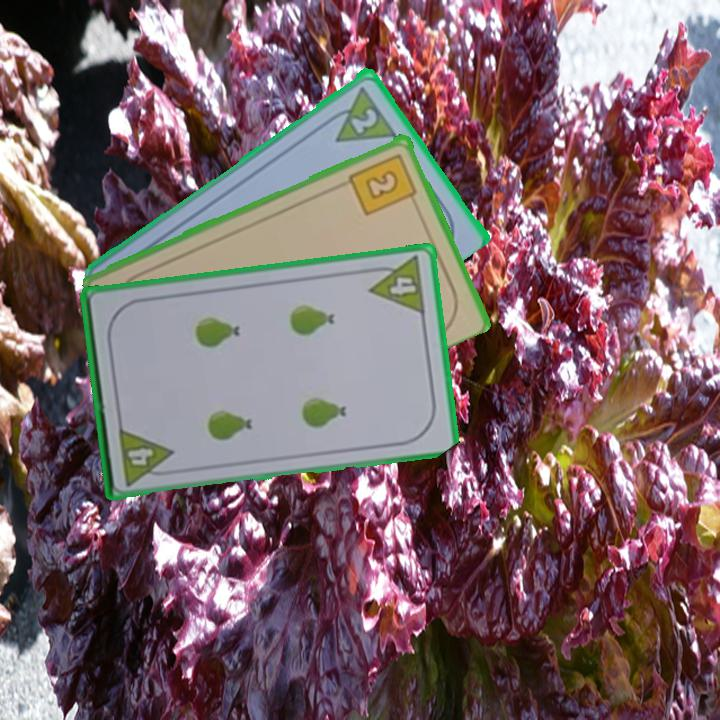2b: (346, 149, 420, 218)
2p: (320, 81, 398, 146)
4p: (364, 253, 428, 318), (115, 424, 177, 489)
